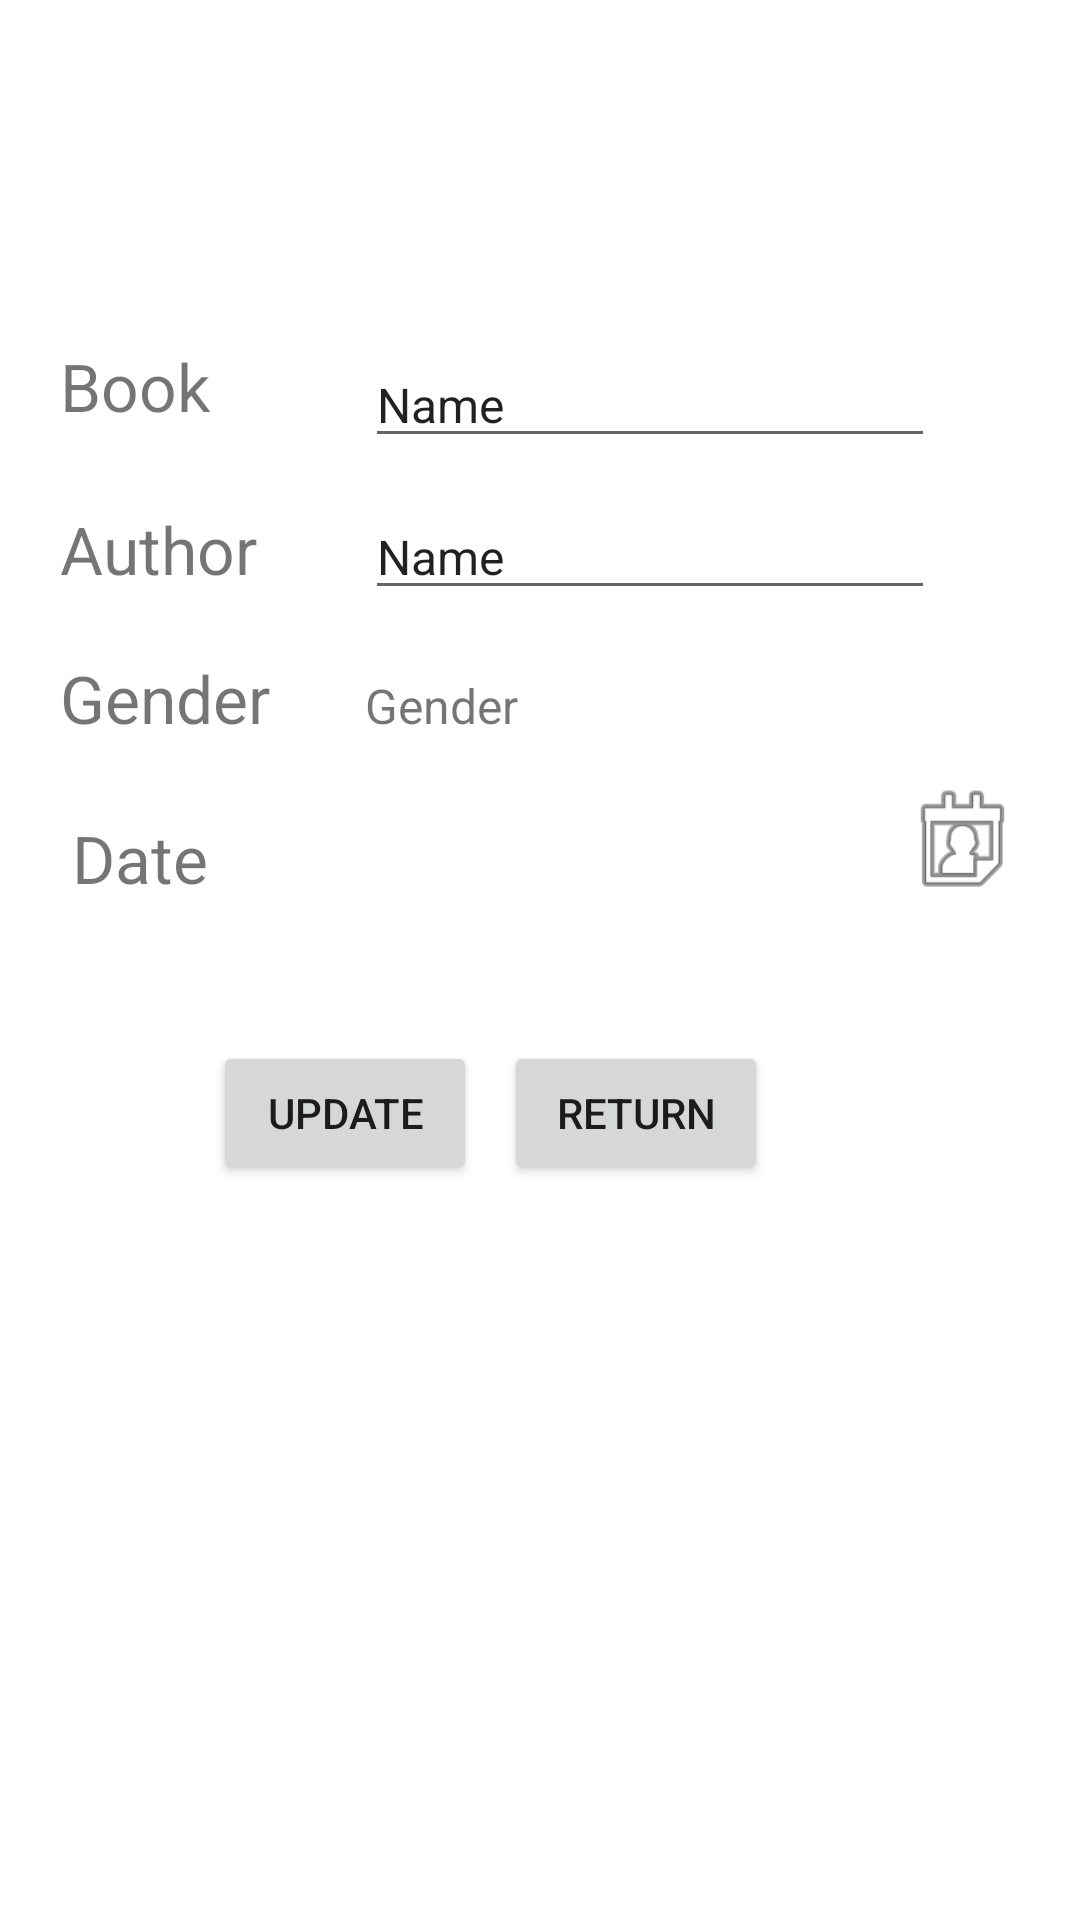

Point at icon controls on the screen. Image size 1080w x 1920h, points as (x,y).
calendar: (962,838)
